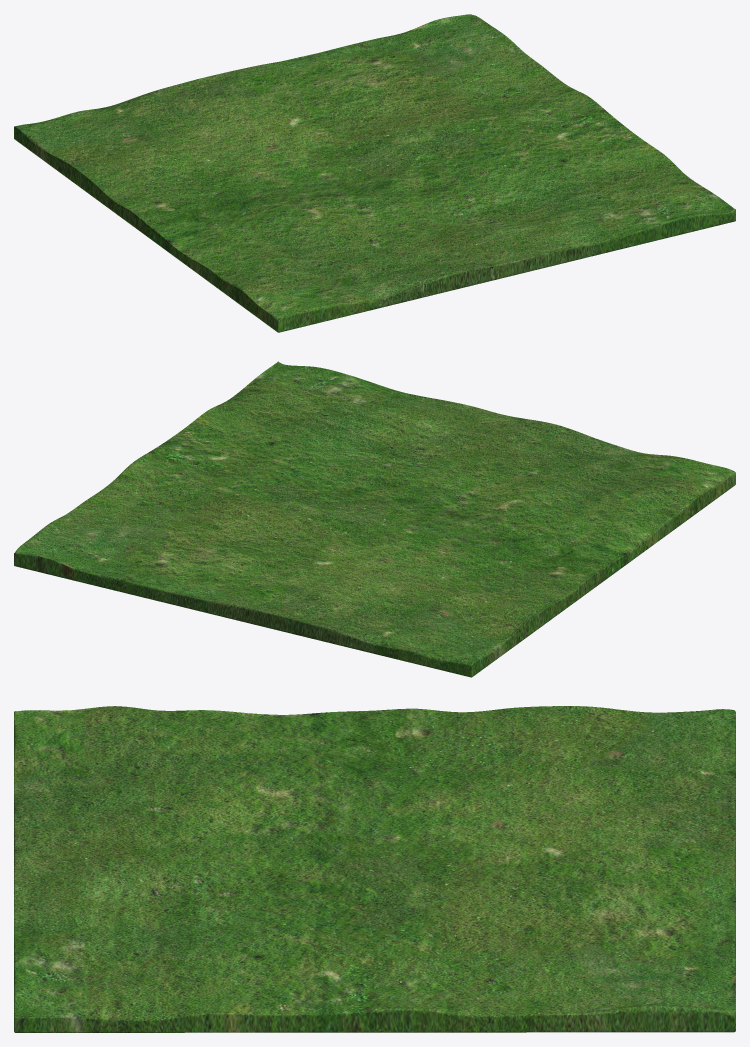
Rendered from grass.glb.
3 views of the same model, one above another, from view 1: azimuth 30°, elevation 25°; view 2: azimuth 150°, elevation 25°; view 3: azimuth 270°, elevation 25° (orthographic). The views are drawn at different scales.
Parts seen in each view (by area): view 1: 10450_Rectangular_Grass_Patch_v1_iterations-2; view 2: 10450_Rectangular_Grass_Patch_v1_iterations-2; view 3: 10450_Rectangular_Grass_Patch_v1_iterations-2.
Boxes of the visible parts, box(x1,y1,x2,y2) form: 10450_Rectangular_Grass_Patch_v1_iterations-2: box(14, 14, 735, 332); 10450_Rectangular_Grass_Patch_v1_iterations-2: box(14, 361, 735, 677); 10450_Rectangular_Grass_Patch_v1_iterations-2: box(14, 706, 735, 1032).
Bounding box in the file's own units: 86.86 × 3.42 × 86.87.
Materials: 1 (1 with a texture image).
